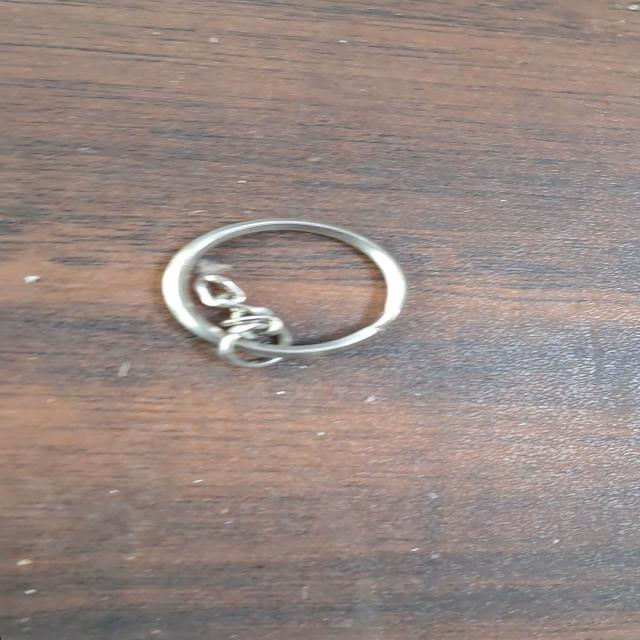Anorganik: (142, 205, 430, 378)
